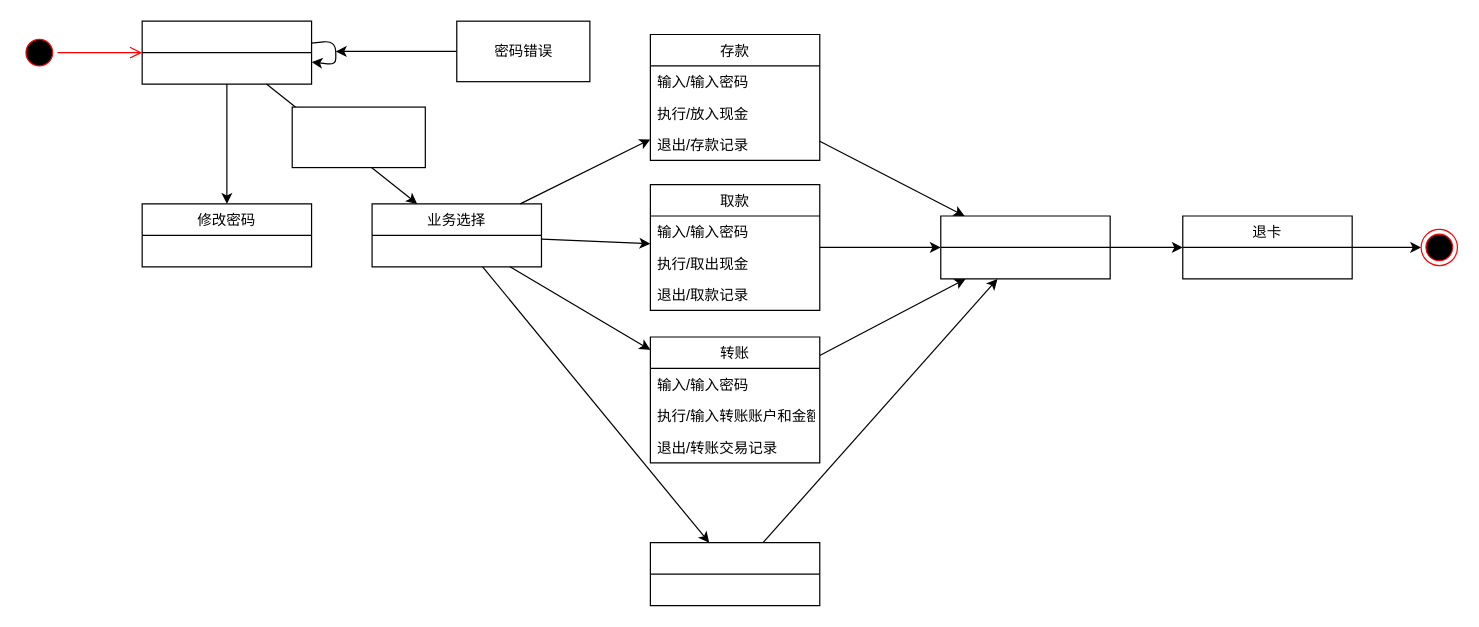
Some shapes in this 1479 by 627 pixel diagram are drawn without their labels. The centre of each missing label's shape, as x and y in pixels:
打印凭条: point (1025, 247)
查询账户信息: point (734, 573)
登录: point (226, 52)
登陆成功: point (358, 137)
